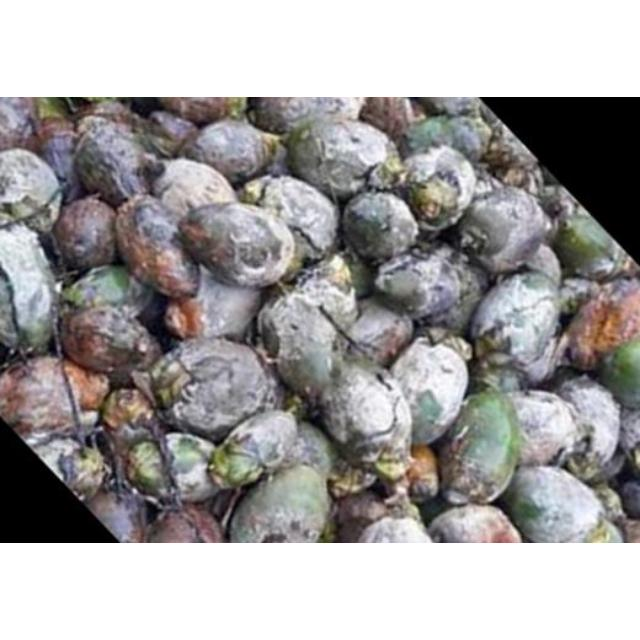damaged: (154, 337, 282, 441), (317, 362, 413, 470), (180, 200, 296, 288), (261, 291, 353, 399), (438, 390, 524, 504), (114, 194, 202, 300), (386, 339, 470, 447), (283, 117, 391, 199), (454, 187, 550, 275), (0, 225, 60, 358), (229, 464, 331, 542), (60, 302, 162, 380), (502, 466, 604, 542), (72, 120, 160, 208), (371, 245, 471, 321), (252, 175, 341, 258), (1, 356, 85, 442), (394, 145, 478, 229), (277, 257, 363, 339), (553, 378, 623, 476), (184, 118, 284, 186), (181, 270, 265, 342), (149, 158, 241, 222), (504, 391, 578, 469), (60, 264, 154, 324), (0, 146, 64, 234), (340, 190, 418, 262), (148, 432, 224, 504), (51, 196, 120, 272), (552, 211, 624, 279), (400, 114, 490, 164), (346, 301, 412, 365), (282, 422, 336, 488), (122, 437, 174, 501), (36, 120, 82, 190), (28, 435, 84, 491), (56, 442, 108, 502), (250, 98, 338, 132), (146, 503, 222, 542), (598, 334, 638, 408), (514, 334, 568, 388), (84, 490, 142, 540), (349, 513, 443, 543), (98, 388, 156, 434), (468, 357, 528, 398), (358, 98, 414, 140), (487, 152, 543, 194), (0, 98, 40, 156), (334, 493, 386, 535), (412, 329, 472, 365), (158, 98, 236, 124), (562, 196, 604, 244), (148, 111, 196, 151), (0, 262, 20, 354), (541, 182, 581, 226), (380, 489, 426, 526), (557, 276, 599, 314), (602, 275, 638, 319), (414, 98, 484, 120), (567, 332, 605, 372), (82, 100, 136, 126), (418, 492, 450, 526), (472, 331, 506, 362), (34, 98, 74, 124), (1, 366, 20, 408), (126, 98, 164, 119)
